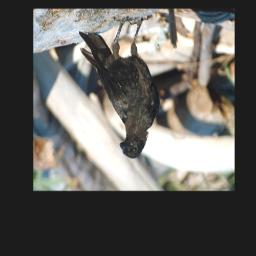Crow: (78, 15, 161, 160)
